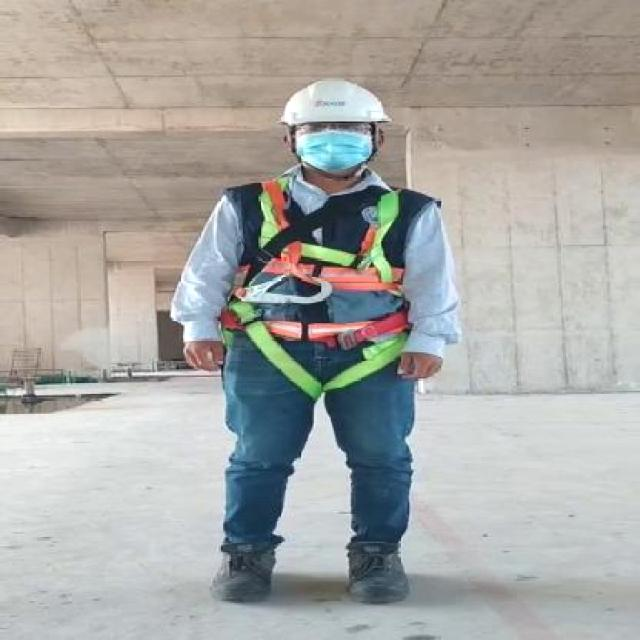face_mask: (292, 120, 374, 171)
hand_noglove: (173, 334, 230, 377), (390, 342, 447, 384)
head_helmet: (270, 74, 396, 128)
person: (155, 56, 483, 624)
shoes: (335, 536, 431, 606), (197, 534, 289, 604)
vest: (206, 175, 452, 356)
